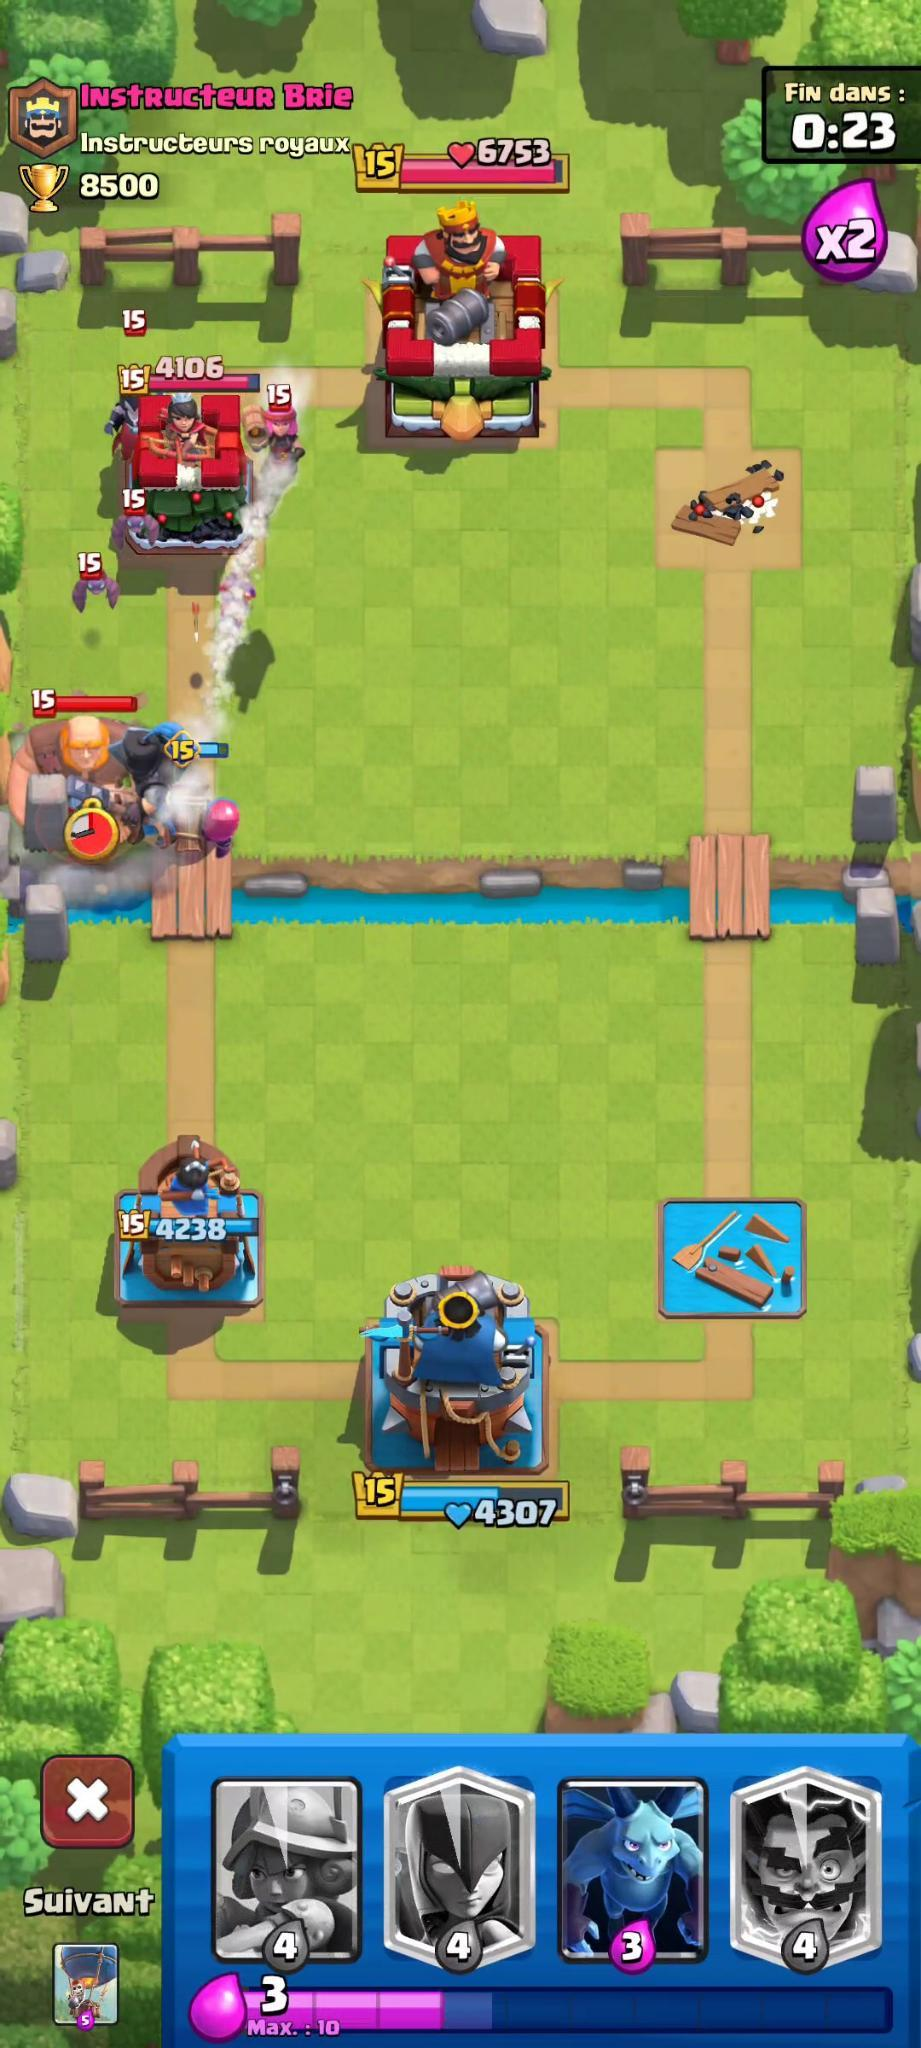enemy_bats: (65, 549, 124, 618), (101, 488, 162, 554)
enemy_firecracker: (247, 385, 311, 466)
enemy_giant: (9, 671, 146, 825)
enemy_night_witch: (103, 394, 142, 468)
player_dark_prince: (68, 717, 186, 853)
player_firecraker: (170, 768, 249, 869)
